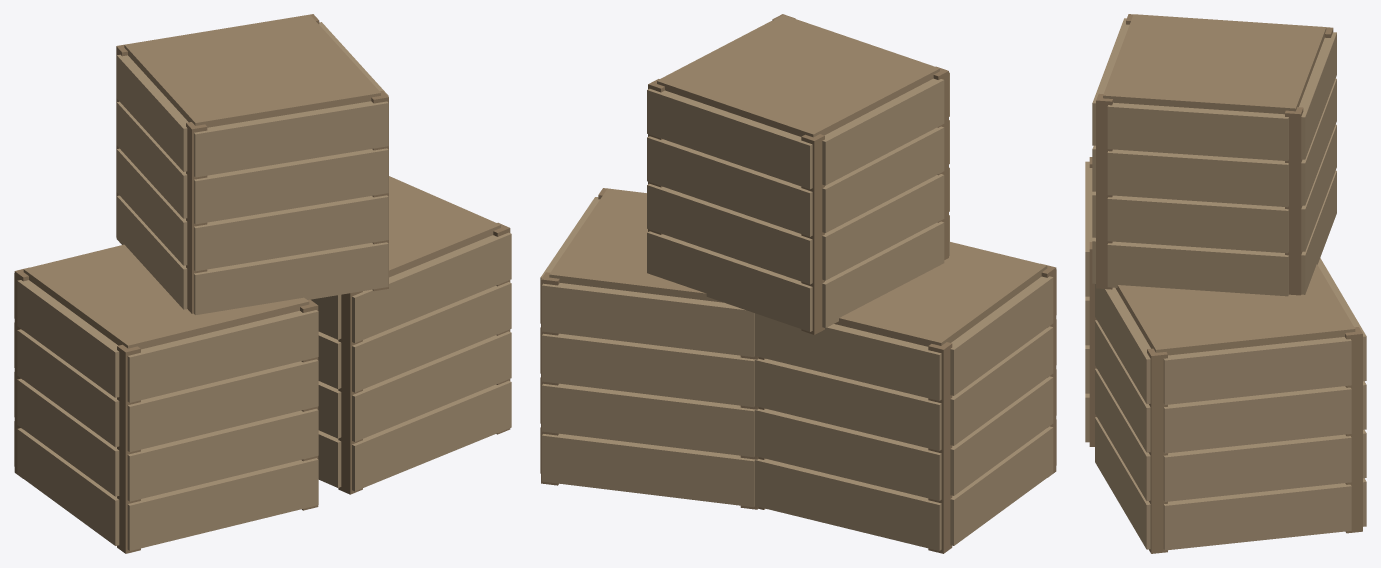
The model's file is CrateStack.fbx.
3 renders of one model, left to right at view 1: azimuth 30°, elevation 25°; view 2: azimuth 150°, elevation 25°; view 3: azimuth 270°, elevation 25°, orthographic. The views are drawn at different scales.
Visible parts, largest first — view 1: Crate_Bark, Crate.002_Bark, Crate.001_Bark; view 2: Crate.002_Bark, Crate_Bark, Crate.001_Bark; view 3: Crate.001_Bark, Crate.002_Bark, Crate_Bark.
Boxes of the visible parts, <box> form: Crate_Bark: <box>14,244,318,553</box>; Crate.002_Bark: <box>116,14,388,315</box>; Crate.001_Bark: <box>311,176,511,494</box>; Crate.002_Bark: <box>647,14,949,334</box>; Crate_Bark: <box>752,242,1056,553</box>; Crate.001_Bark: <box>540,188,758,509</box>; Crate.001_Bark: <box>1095,258,1366,553</box>; Crate.002_Bark: <box>1092,14,1336,296</box>; Crate_Bark: <box>1085,157,1096,446</box>.
Size of the model in its own units: 89.12 by 79.35 by 52.61.
